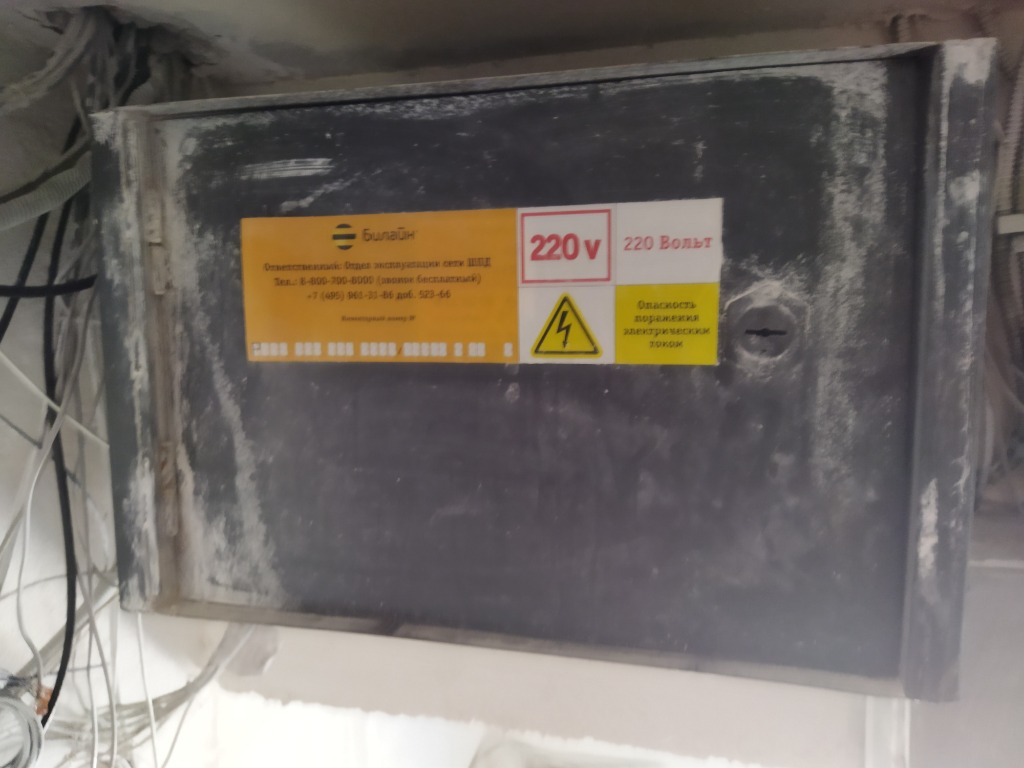e2-6u: (76, 28, 1001, 712)
